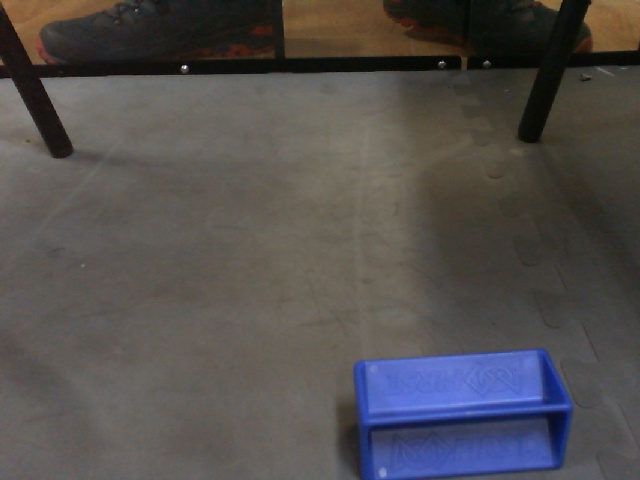BlueSample: (346, 341, 578, 480)
